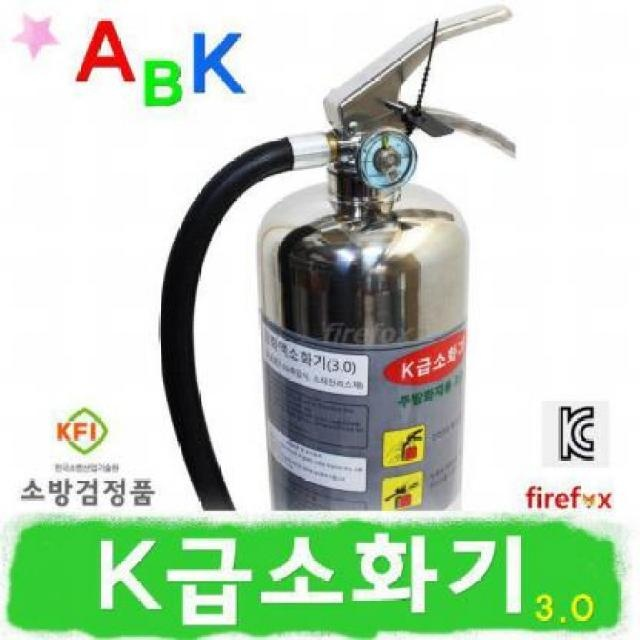fire extinguisher: (159, 5, 518, 512)
